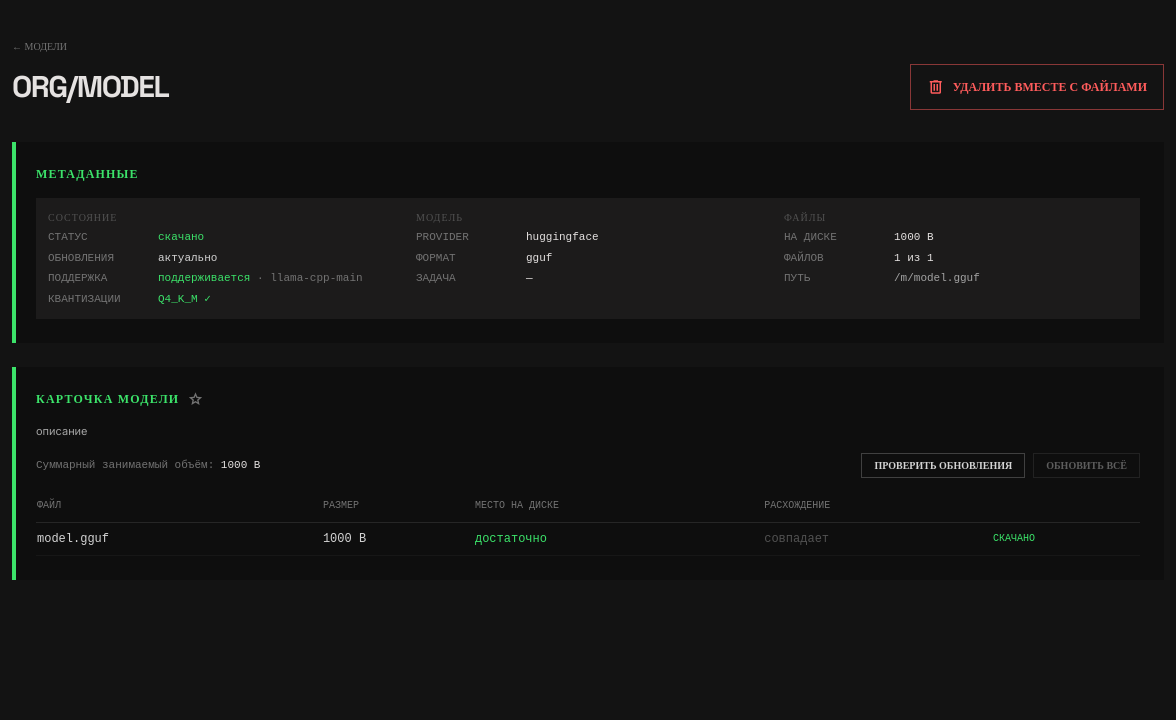
Test: ModelDetailPage — проверка обновлений в карточке › кнопка недоступна, пока проверка идёт
The image size is (1176, 720).
Click the button with test id "check-this-model" at coordinates (943, 465), box [861,453,1025,478]
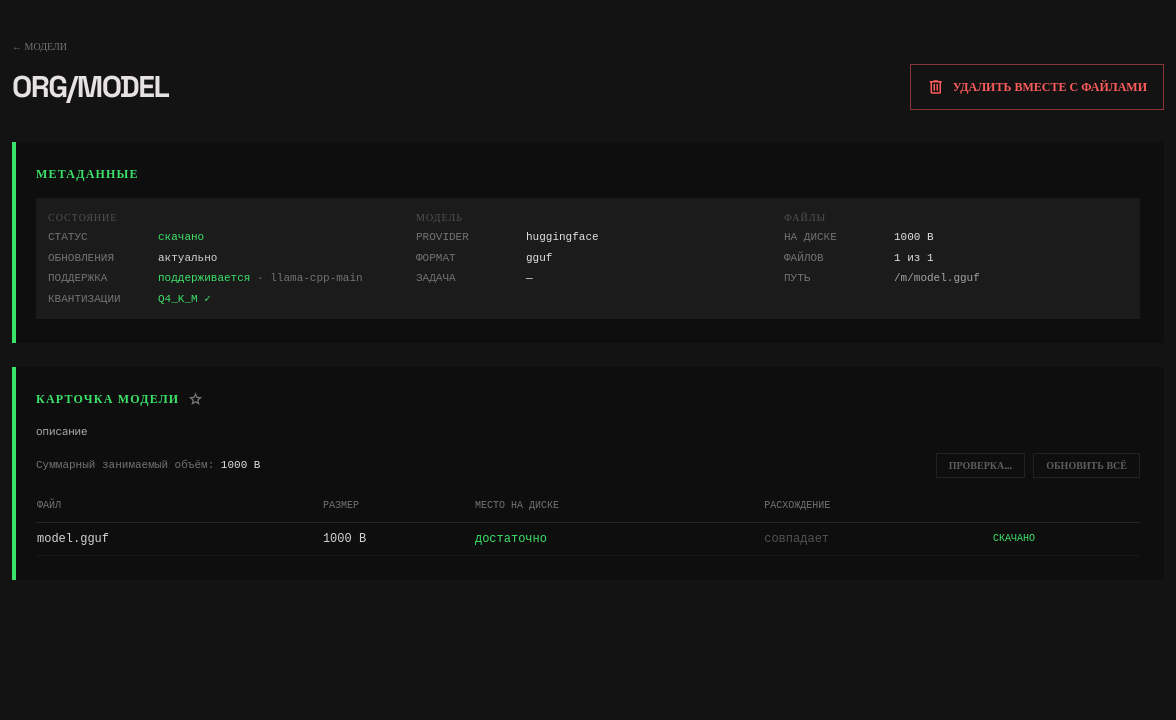
Now the button with test id "check-this-model" is disabled, box [936,453,1025,478]
Now the button with test id "check-this-model" reads "Проверка…", box [936,453,1025,478]
